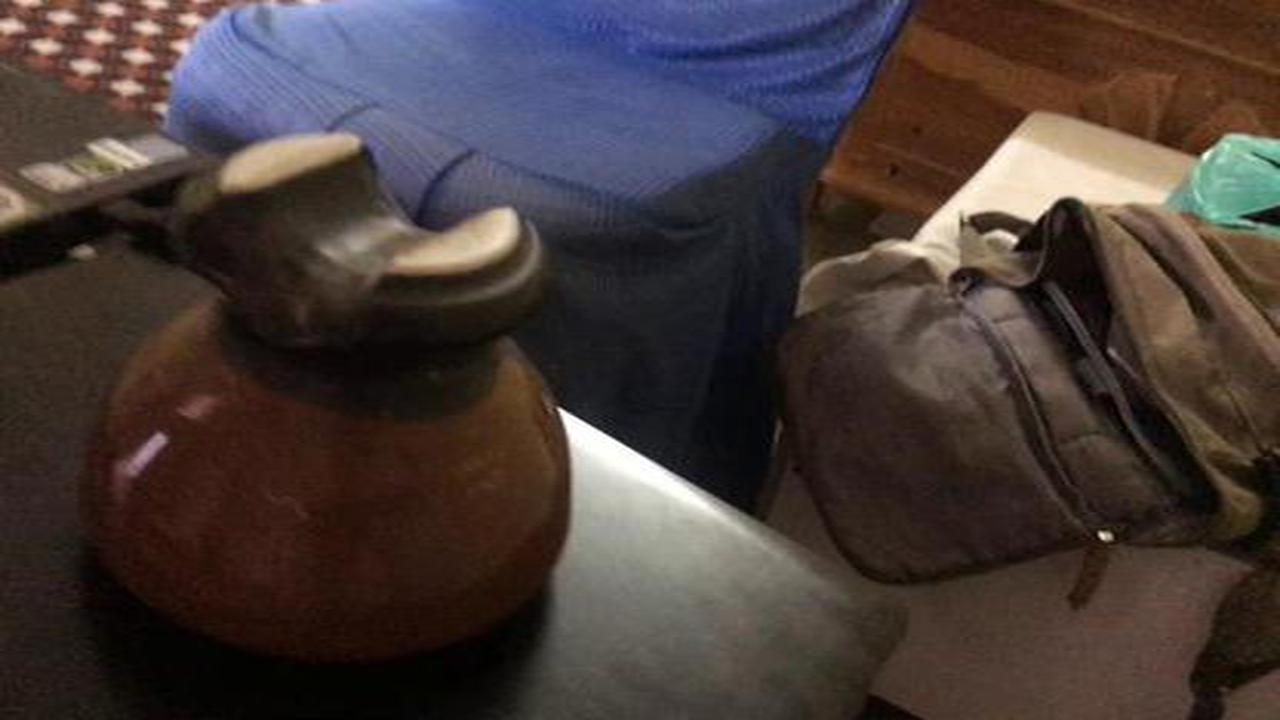insulator_pin: (77, 111, 594, 672)
